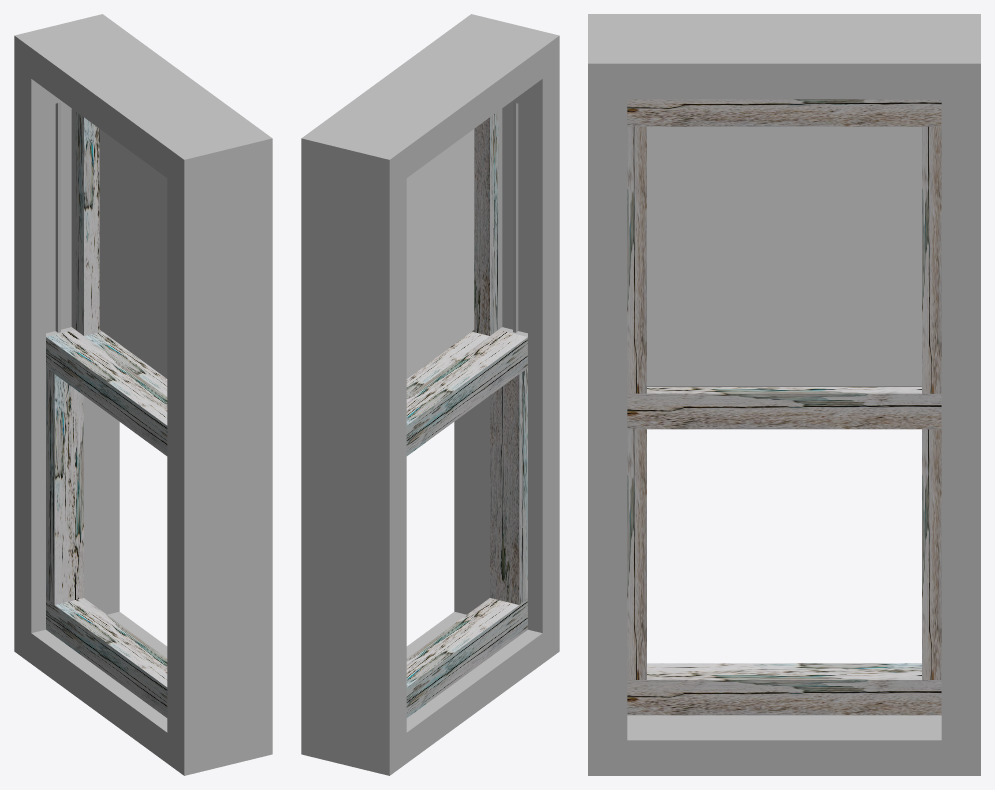
File: brokenwindowcabin2.fbx
3 renders of one model, left to right at view 1: azimuth 30°, elevation 25°; view 2: azimuth 150°, elevation 25°; view 3: azimuth 270°, elevation 25°, orthographic. The views are drawn at different scales.
Visible parts, largest first — view 1: Cube.002, Cube.003, Cube.001, glass.001, Cube, Cube.013, Cube.005, Cube.006, Cube.009, Cube.007, Cube.011; view 2: Cube.003, Cube.002, Cube.001, glass.001, Cube, Cube.012, Cube.005, Cube.006, Cube.008, Cube.007, Cube.010; view 3: glass.001, Cube.001, Cube.002, Cube.003, Cube, Cube.006, Cube.007, Cube.004, Cube.008, Cube.009, Cube.012, Cube.013.
Boxes of the visible parts, x1=… form: Cube.002: x1=167, y1=169, x2=272, y2=744; Cube.003: x1=14, y1=66, x2=119, y2=632; Cube.001: x1=14, y1=14, x2=272, y2=190; glass.001: x1=99, y1=129, x2=167, y2=378; Cube: x1=14, y1=611, x2=272, y2=775; Cube.013: x1=46, y1=368, x2=83, y2=604; Cube.005: x1=46, y1=330, x2=167, y2=455; Cube.006: x1=46, y1=598, x2=167, y2=717; Cube.009: x1=75, y1=111, x2=101, y2=335; Cube.007: x1=84, y1=331, x2=167, y2=396; Cube.011: x1=55, y1=102, x2=60, y2=332; Cube.003: x1=301, y1=169, x2=406, y2=744; Cube.002: x1=454, y1=66, x2=559, y2=632; Cube.001: x1=301, y1=14, x2=559, y2=190; glass.001: x1=406, y1=129, x2=474, y2=378; Cube: x1=301, y1=611, x2=559, y2=775; Cube.012: x1=490, y1=368, x2=527, y2=604; Cube.005: x1=406, y1=330, x2=527, y2=455; Cube.006: x1=406, y1=598, x2=527, y2=717; Cube.008: x1=472, y1=111, x2=498, y2=335; Cube.007: x1=406, y1=331, x2=489, y2=396; Cube.010: x1=513, y1=102, x2=518, y2=332; glass.001: x1=647, y1=126, x2=921, y2=386; Cube.001: x1=588, y1=14, x2=980, y2=99; Cube.002: x1=588, y1=99, x2=627, y2=740; Cube.003: x1=941, y1=99, x2=980, y2=740; Cube: x1=588, y1=715, x2=980, y2=775; Cube.006: x1=627, y1=663, x2=941, y2=715; Cube.007: x1=627, y1=387, x2=941, y2=429; Cube.004: x1=627, y1=99, x2=941, y2=126; Cube.008: x1=627, y1=126, x2=646, y2=393; Cube.009: x1=922, y1=126, x2=941, y2=393; Cube.012: x1=627, y1=429, x2=646, y2=679; Cube.013: x1=922, y1=429, x2=941, y2=679.
Size of the model in its own units: 60 by 400 by 200.
